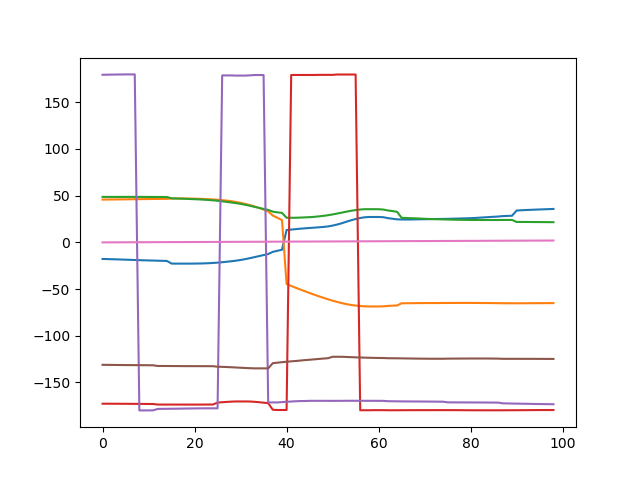Too_Fast: (1, 1, 640, 473)
